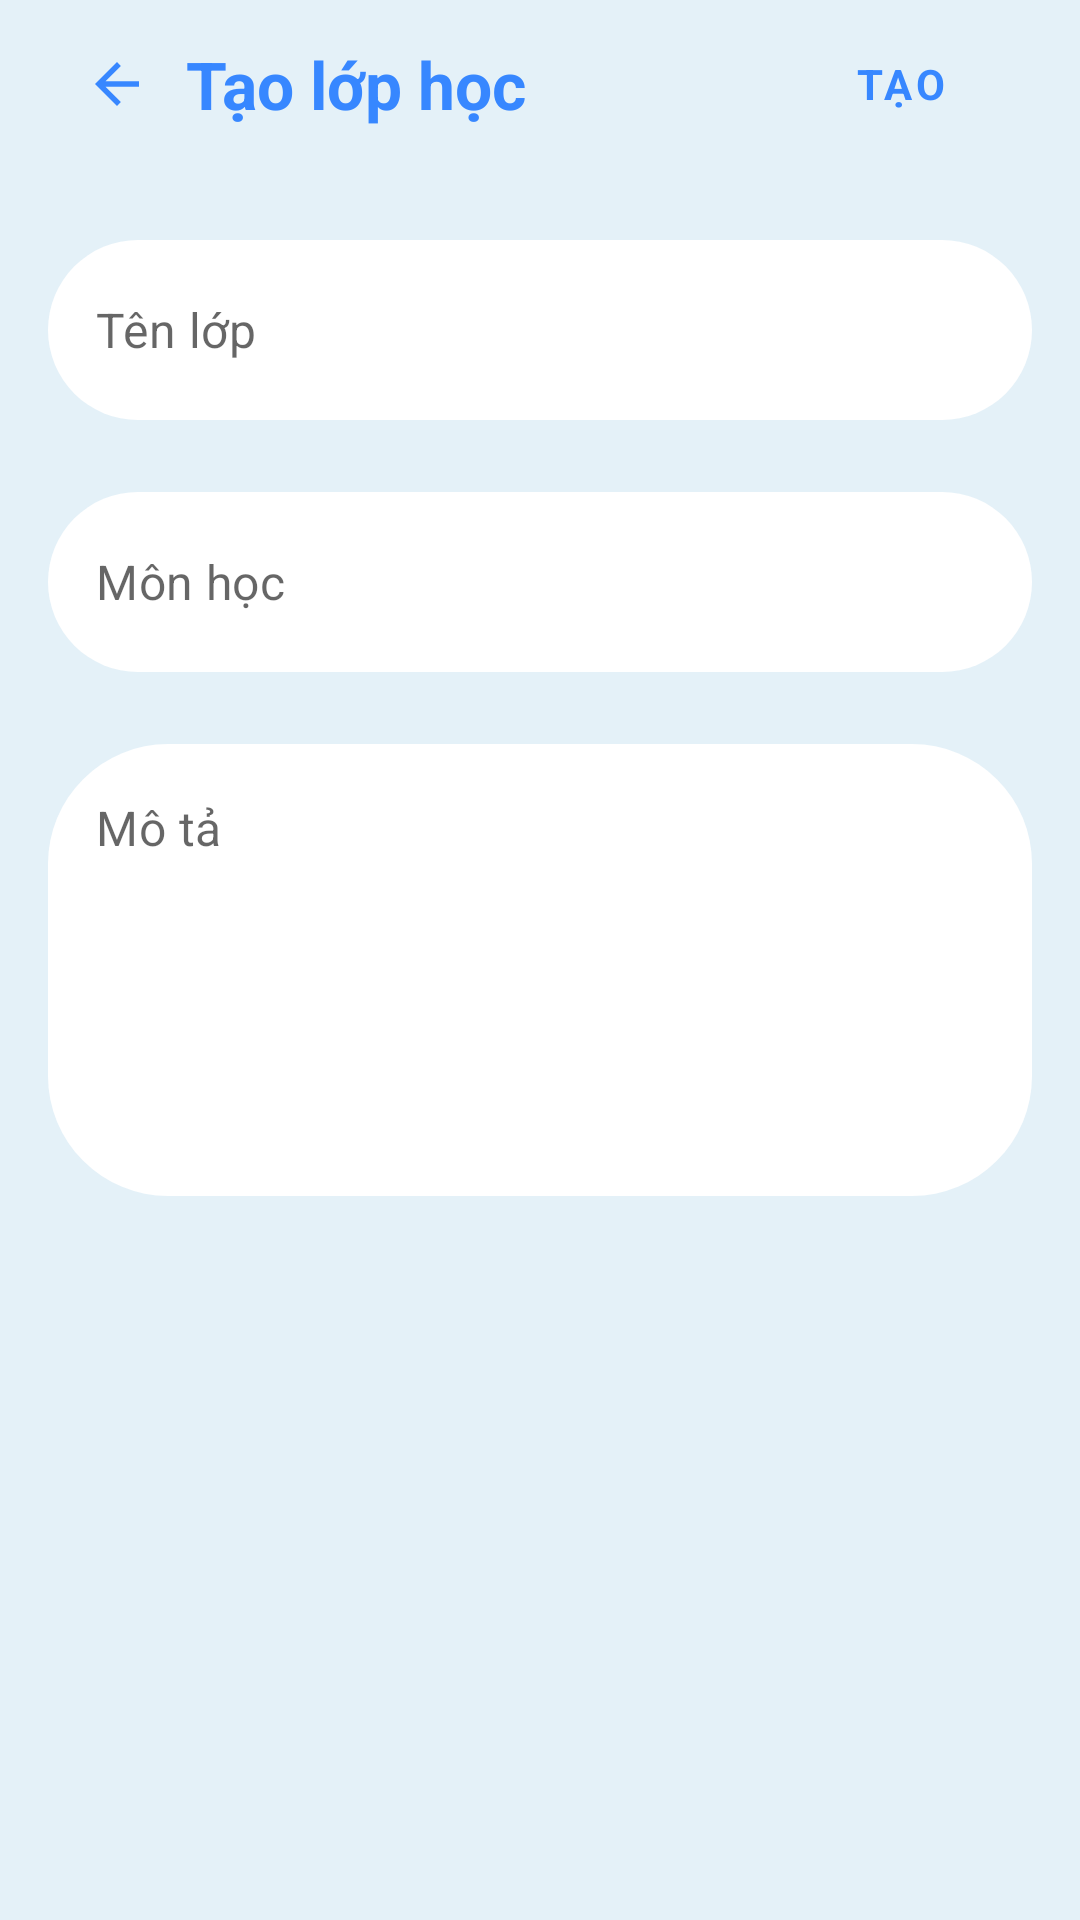

Locate icon controls on the screen. Image size 1080×1920, boxes as (x1, y1, x2, y2).
arrow back: (95, 62, 139, 106)
